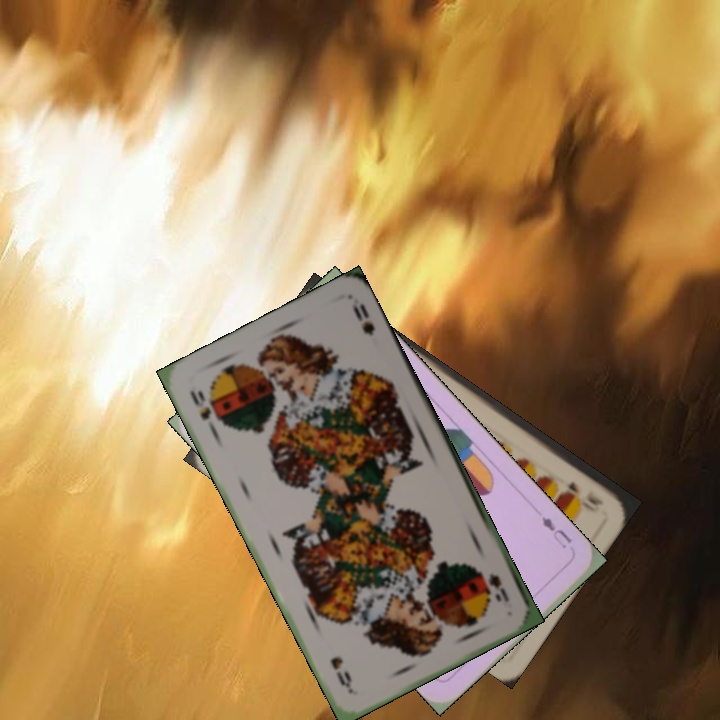E10: (563, 478, 606, 508)
EU: (537, 512, 575, 552)
SO: (185, 385, 220, 437), (484, 569, 512, 605)
